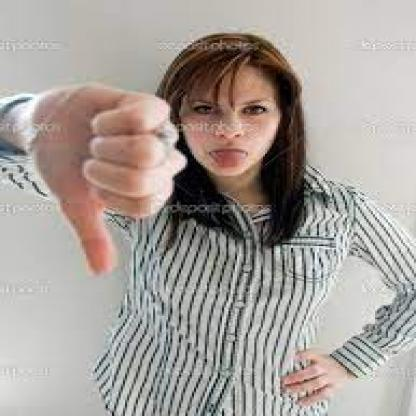thumb_down: (24, 78, 192, 283)
